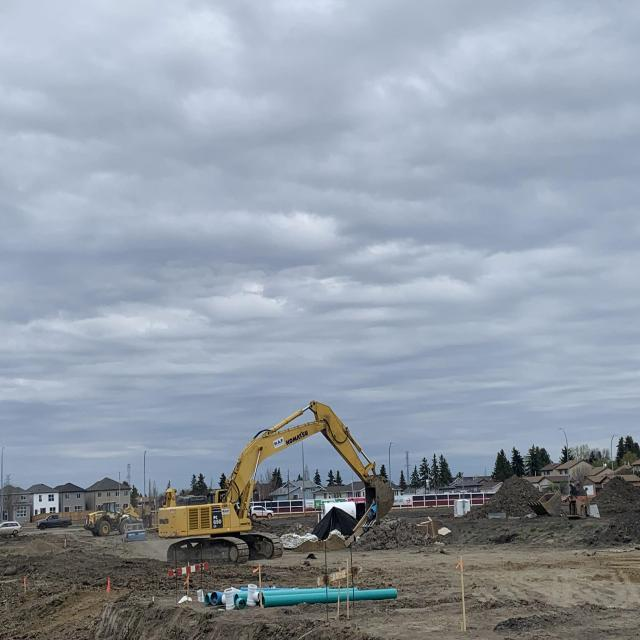Excavator: (152, 400, 396, 574)
Loader: (84, 500, 140, 536)
